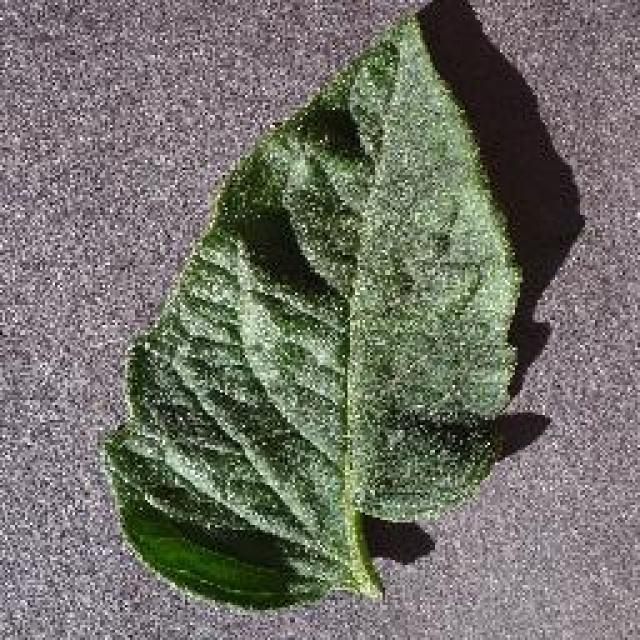Tomato healthy leaf: (114, 13, 521, 605)
